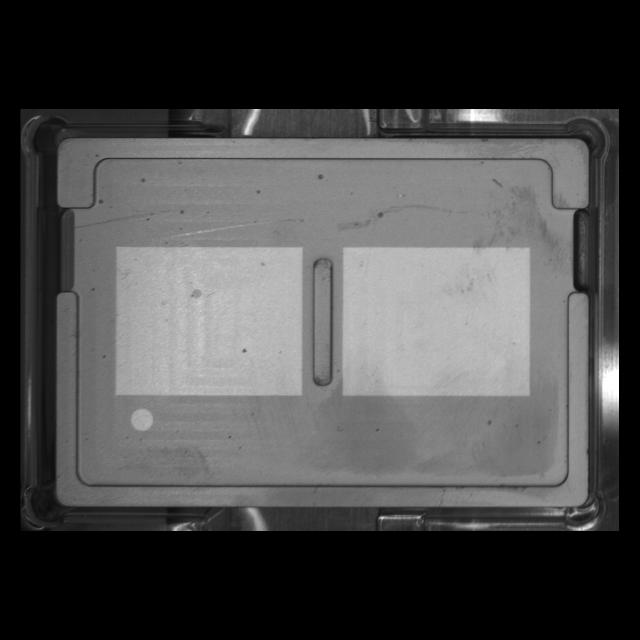door: (47, 128, 604, 222)
point: (128, 404, 156, 436)
